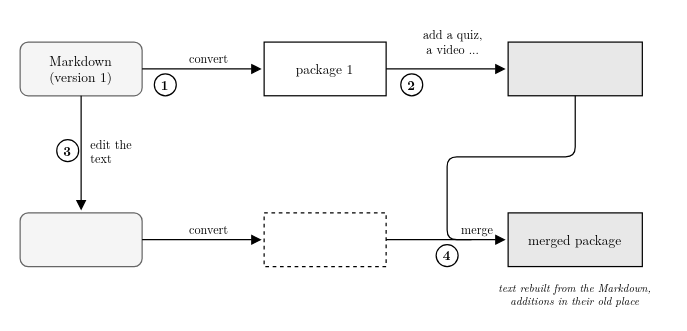
Image size: 687x331. Some labels were removed from this diagram. Each missing label, with the box of its shape:
fresh conversion: (263, 212, 386, 267)
Markdown (version 2): (19, 212, 142, 267)
package 1, edited in H5P: (507, 41, 642, 96)
